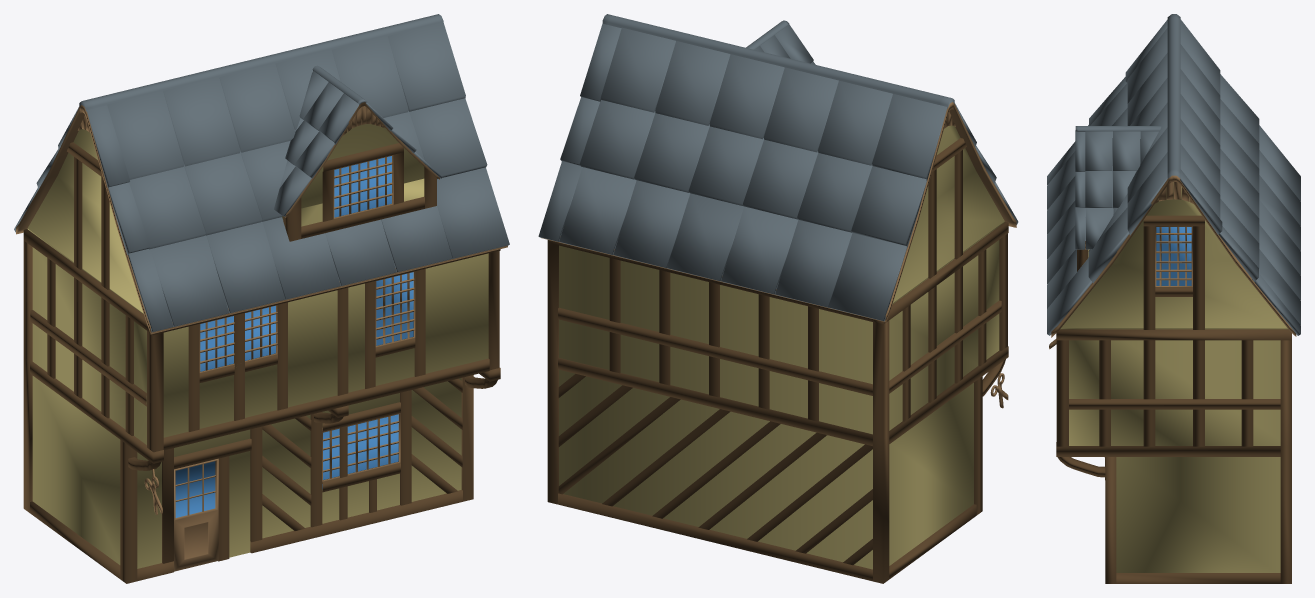
Rendered from building3.glb.
The picture shows the model from 3 angles, left to right: view 1: azimuth 30°, elevation 25°; view 2: azimuth 150°, elevation 25°; view 3: azimuth 270°, elevation 25°; orthographic projection. The views are drawn at different scales.
Visible parts, largest first — view 1: shoemaker; view 2: shoemaker; view 3: shoemaker.
Part boxes in pixels (x1=…): shoemaker: x1=14, y1=14, x2=509, y2=583; shoemaker: x1=538, y1=14, x2=1018, y2=583; shoemaker: x1=1047, y1=14, x2=1300, y2=583.
Bounding box in the file's own units: 4.46 × 5.42 × 3.01.
